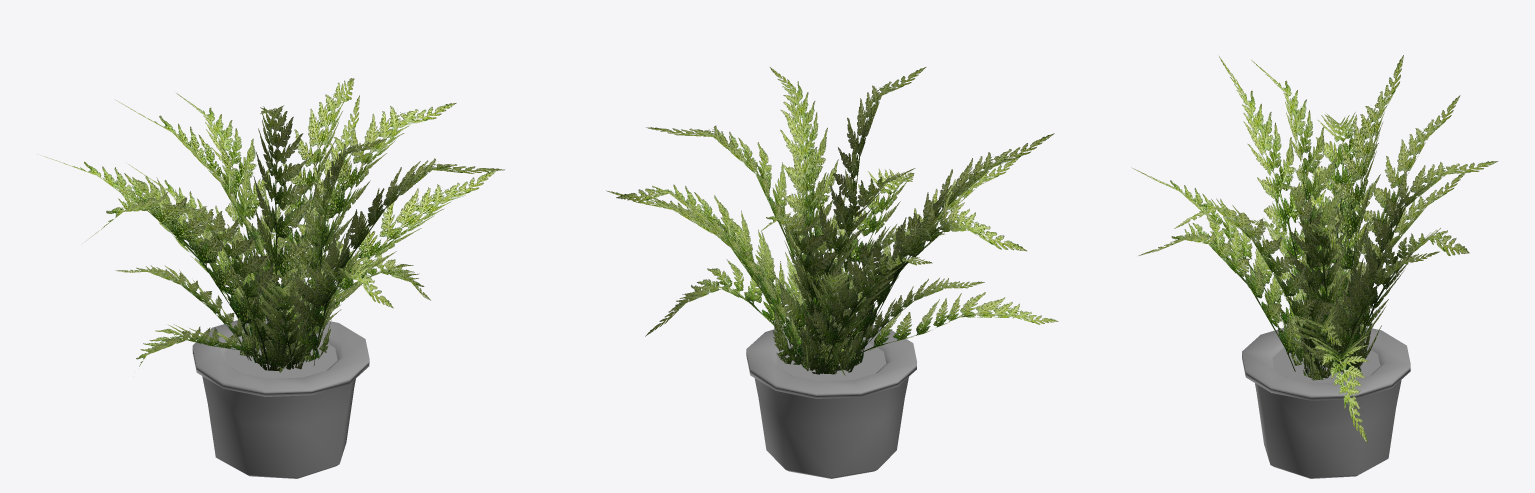
The model's file is Fern_leaf_grass_lod0.fbx.
The picture shows the model from 3 angles, left to right: view 1: azimuth 30°, elevation 25°; view 2: azimuth 150°, elevation 25°; view 3: azimuth 270°, elevation 25°; orthographic projection. The views are drawn at different scales.
Visible parts, largest first — view 1: Fern_leaf_grass_lod0; view 2: Fern_leaf_grass_lod0; view 3: Fern_leaf_grass_lod0.
Part boxes in pixels (x1,y1,x2,y2): Fern_leaf_grass_lod0: (43,78,504,478); Fern_leaf_grass_lod0: (606,67,1058,478); Fern_leaf_grass_lod0: (1131,55,1498,478).
Size of the model in its own units: 56 by 46.17 by 44.09.
Materials: 2 (1 with a texture image).
